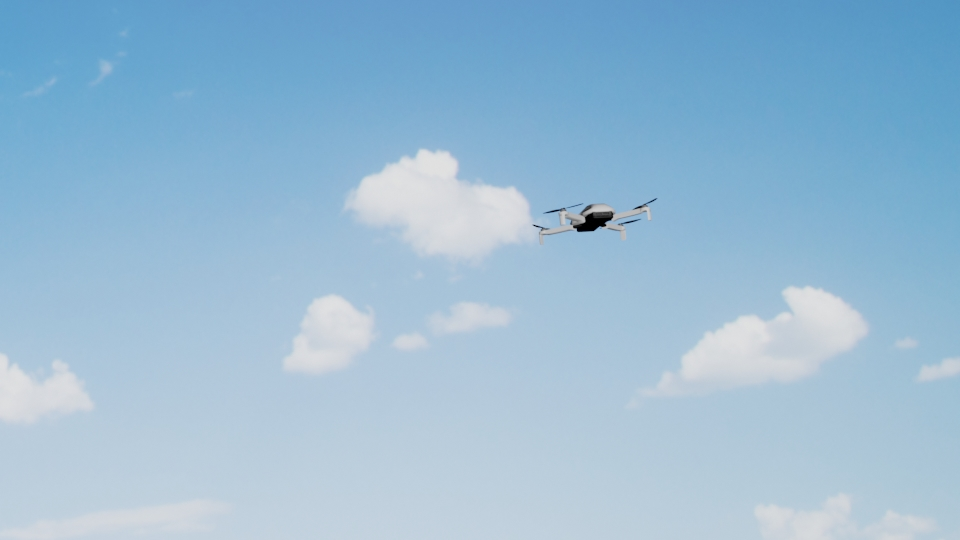drone: (531, 194, 659, 244)
